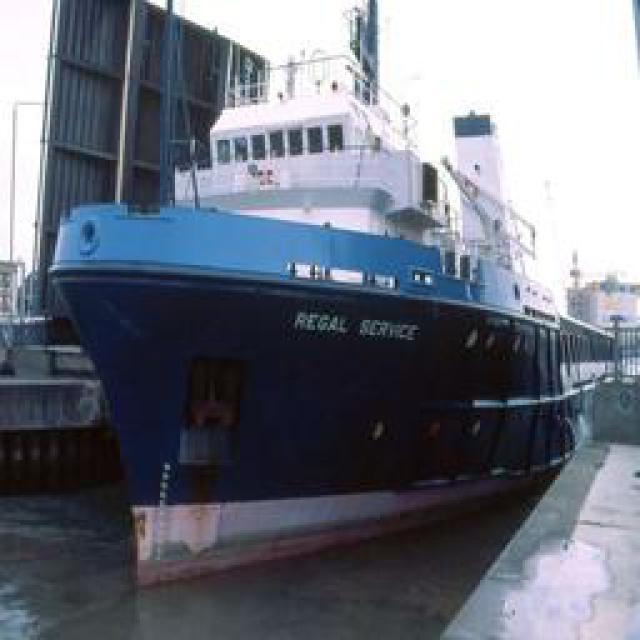Ship: (52, 3, 640, 600)
